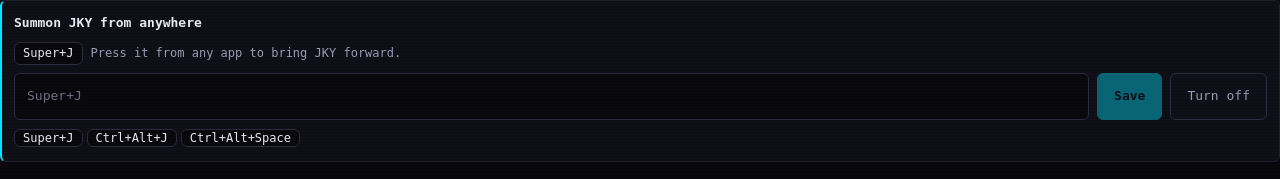
the summon shortcut › turns it off
This screenshot has width=1280, height=179.
Click the button "Turn off": x=1219, y=96 [1170, 73, 1267, 120]
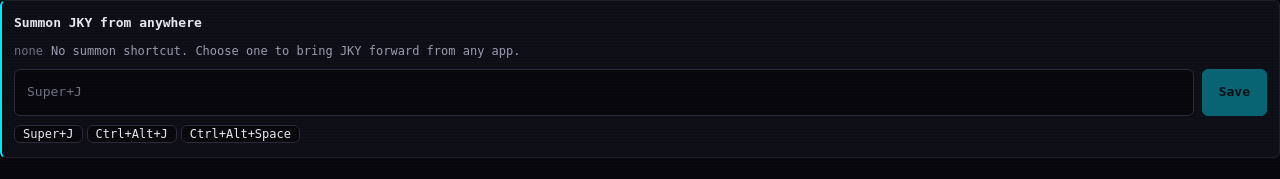
Check: the message shows "No summon shortcut", box [51, 44, 520, 58]
